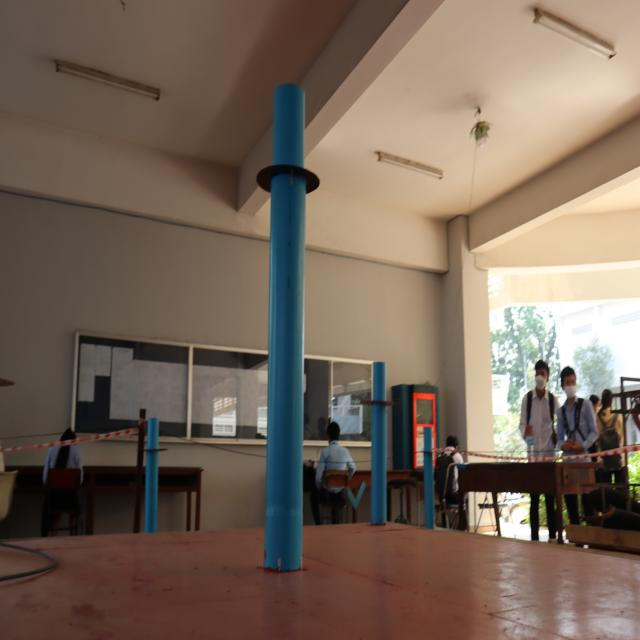pole: (250, 80, 326, 232), (358, 352, 398, 431), (136, 402, 172, 480), (413, 422, 443, 476)
